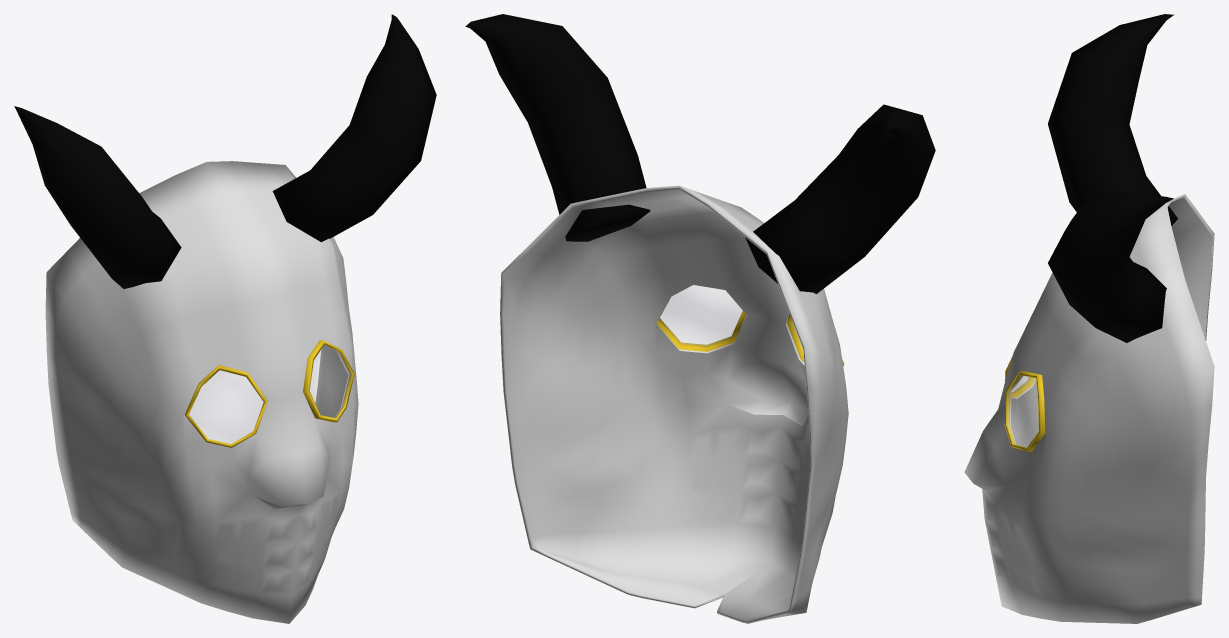
The model's file is dracomask.fbx.
The picture shows the model from 3 angles, left to right: view 1: azimuth 30°, elevation 25°; view 2: azimuth 150°, elevation 25°; view 3: azimuth 270°, elevation 25°; orthographic projection. The views are drawn at different scales.
Parts seen in each view (by area): view 1: Retopo_Cube.003; view 2: Retopo_Cube.003; view 3: Retopo_Cube.003.
Boxes of the visible parts, bbox=[...] form: Retopo_Cube.003: bbox=[14, 14, 436, 623]; Retopo_Cube.003: bbox=[465, 14, 935, 623]; Retopo_Cube.003: bbox=[964, 14, 1214, 623].
Bounding box in the file's own units: 27.28 × 34.14 × 15.46.
